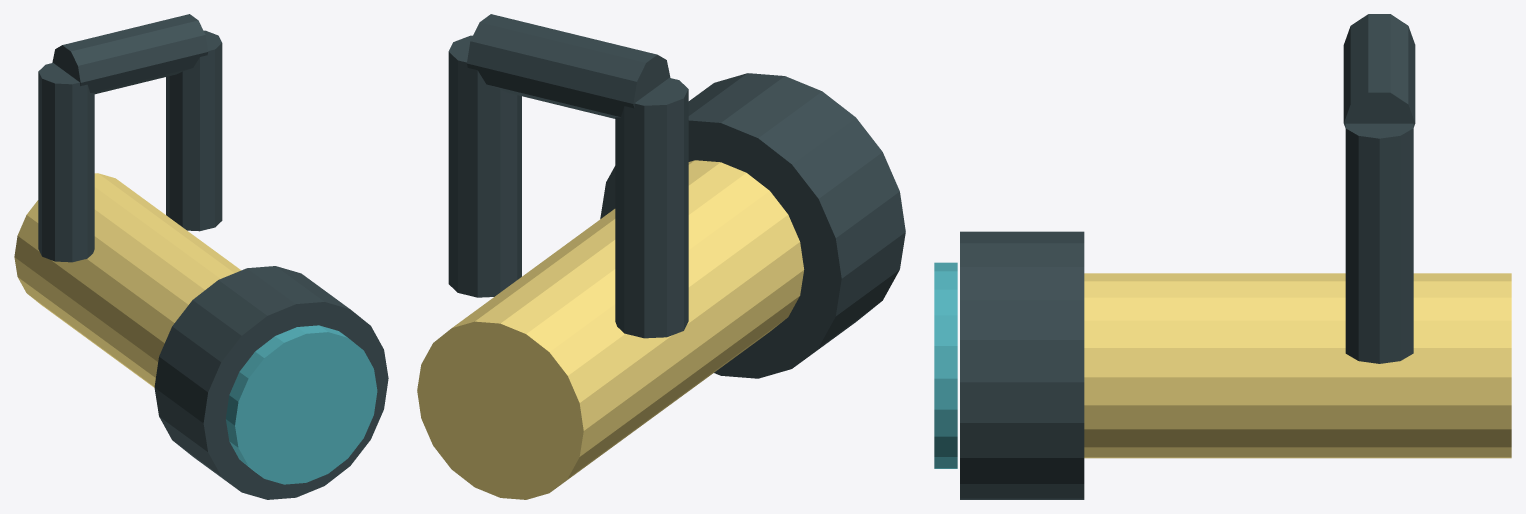
File: diving-and-underwater-salvage-underwater-torch-3605c740__28449.glb
3 views of the same model, side by side, from view 1: azimuth 30°, elevation 25°; view 2: azimuth 150°, elevation 25°; view 3: azimuth 270°, elevation 25° (orthographic). The views are drawn at different scales.
Visible parts, largest first — view 1: underwater-torch-dark, underwater-torch-yellow, underwater-torch-glass; view 2: underwater-torch-dark, underwater-torch-yellow; view 3: underwater-torch-yellow, underwater-torch-dark, underwater-torch-glass.
Boxes of the visible parts, box(x1,y1,x2,y2) form: underwater-torch-dark: box(38, 14, 388, 499); underwater-torch-yellow: box(14, 173, 241, 387); underwater-torch-glass: box(226, 325, 377, 484); underwater-torch-dark: box(448, 14, 905, 378); underwater-torch-yellow: box(417, 160, 804, 499); underwater-torch-yellow: box(1084, 273, 1511, 458); underwater-torch-dark: box(960, 14, 1415, 499); underwater-torch-glass: box(934, 262, 957, 468).
Size of the model in its own units: 0.174 by 0.3089 by 0.3715.
